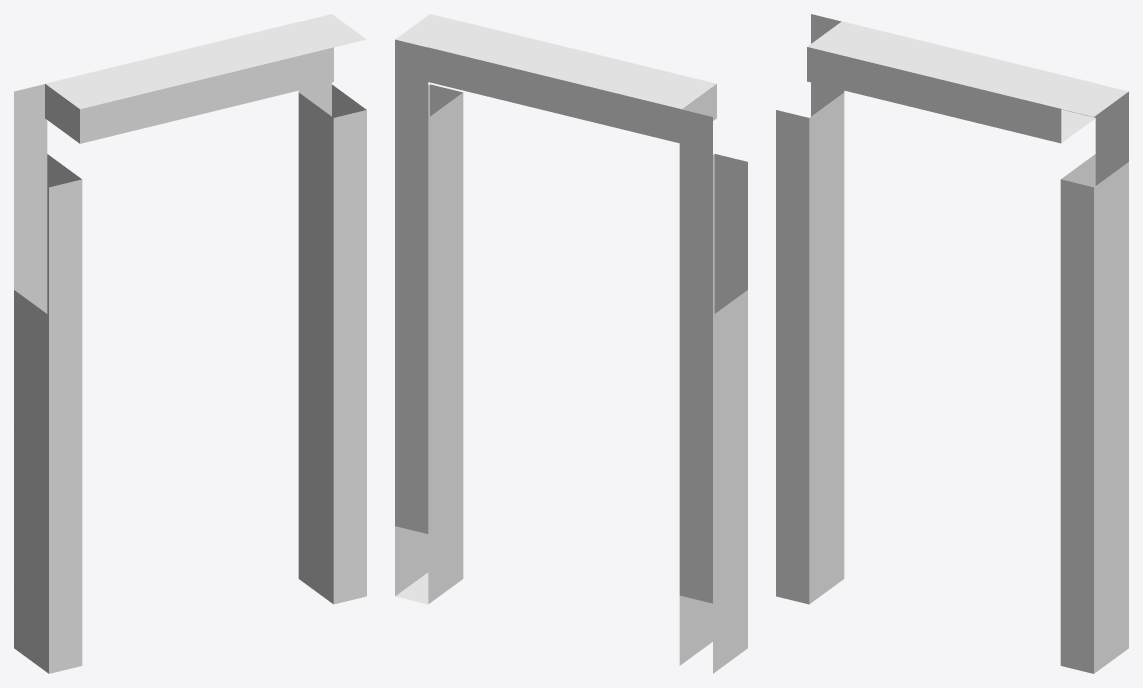
Rendered from kwalldoor.fbx.
3 views of the same model, side by side, from view 1: azimuth 30°, elevation 25°; view 2: azimuth 150°, elevation 25°; view 3: azimuth 330°, elevation 25° (orthographic).
Parts seen in each view (by area): view 1: polySurface235; view 2: polySurface235; view 3: polySurface235.
Boxes of the visible parts, box(x1,y1,x2,y2) form: polySurface235: box(14, 14, 366, 673); polySurface235: box(395, 14, 747, 673); polySurface235: box(776, 14, 1128, 673).
Size of the model in its own units: 3.43 by 5.74 by 0.6524.
1 material, 1 textured.
